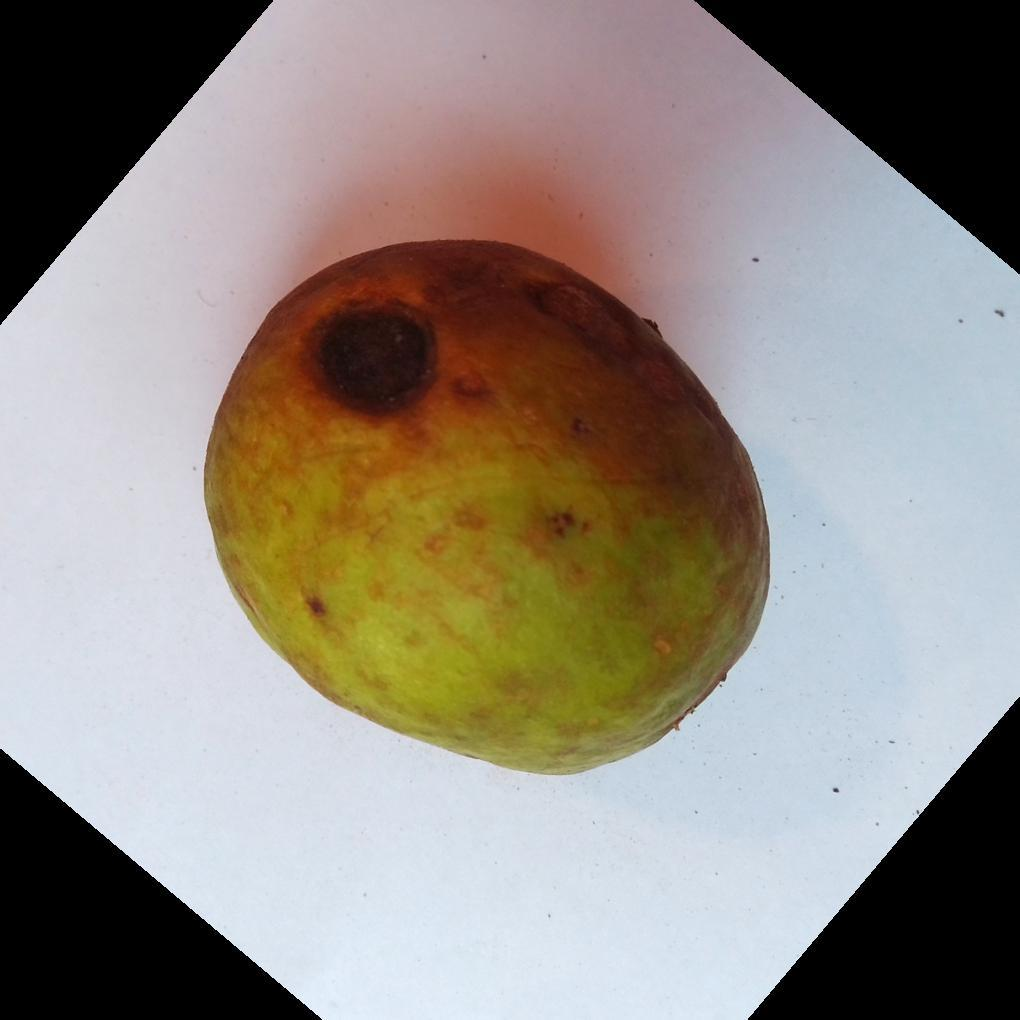FreshOrange: (201, 239, 772, 779)
